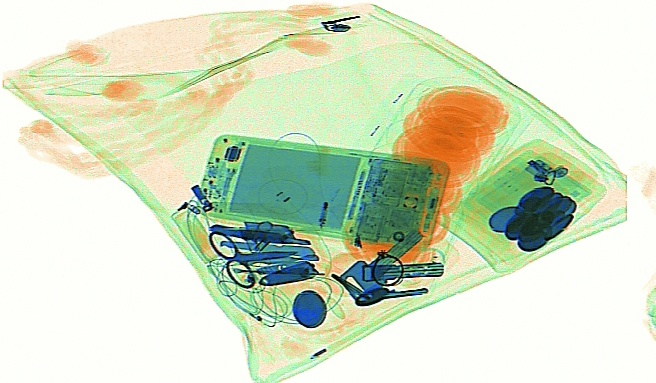scissors: (205, 229, 298, 290)
